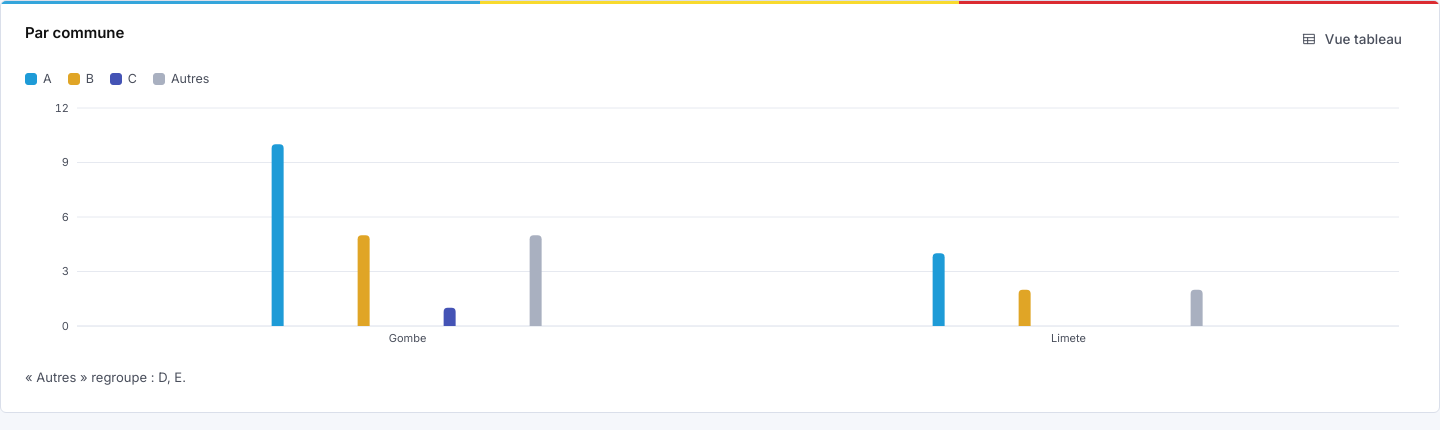
Test: graphiques cartésiens › BarChartViz : carte titrée, légende dès 2 séries, repli au-delà de 4 séries dans « Autres », vue tableau
The width and height of the screenshot is (1440, 430).
Expected: the heading "Par commune" is shown, [25,21,124,44]
Expected: the list items read "A", "B", "C", "Autres", in this order, [25,69,52,88]; [68,69,94,88]; [110,69,137,88]; [153,69,210,88]
Click the button "Vue tableau".
click(1351, 39)  # box [1288,21,1415,57]
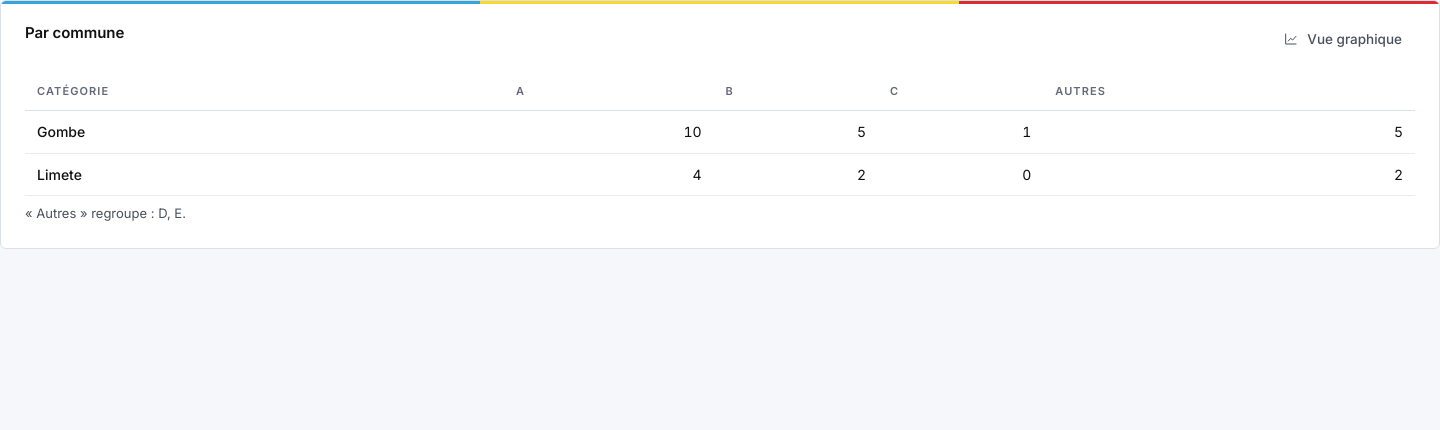
Expected: the column heading "Autres" is shown, [1043,73,1415,110]
Expected: the row "Gombe 10 5 1 5" is shown, [25,111,1415,153]
